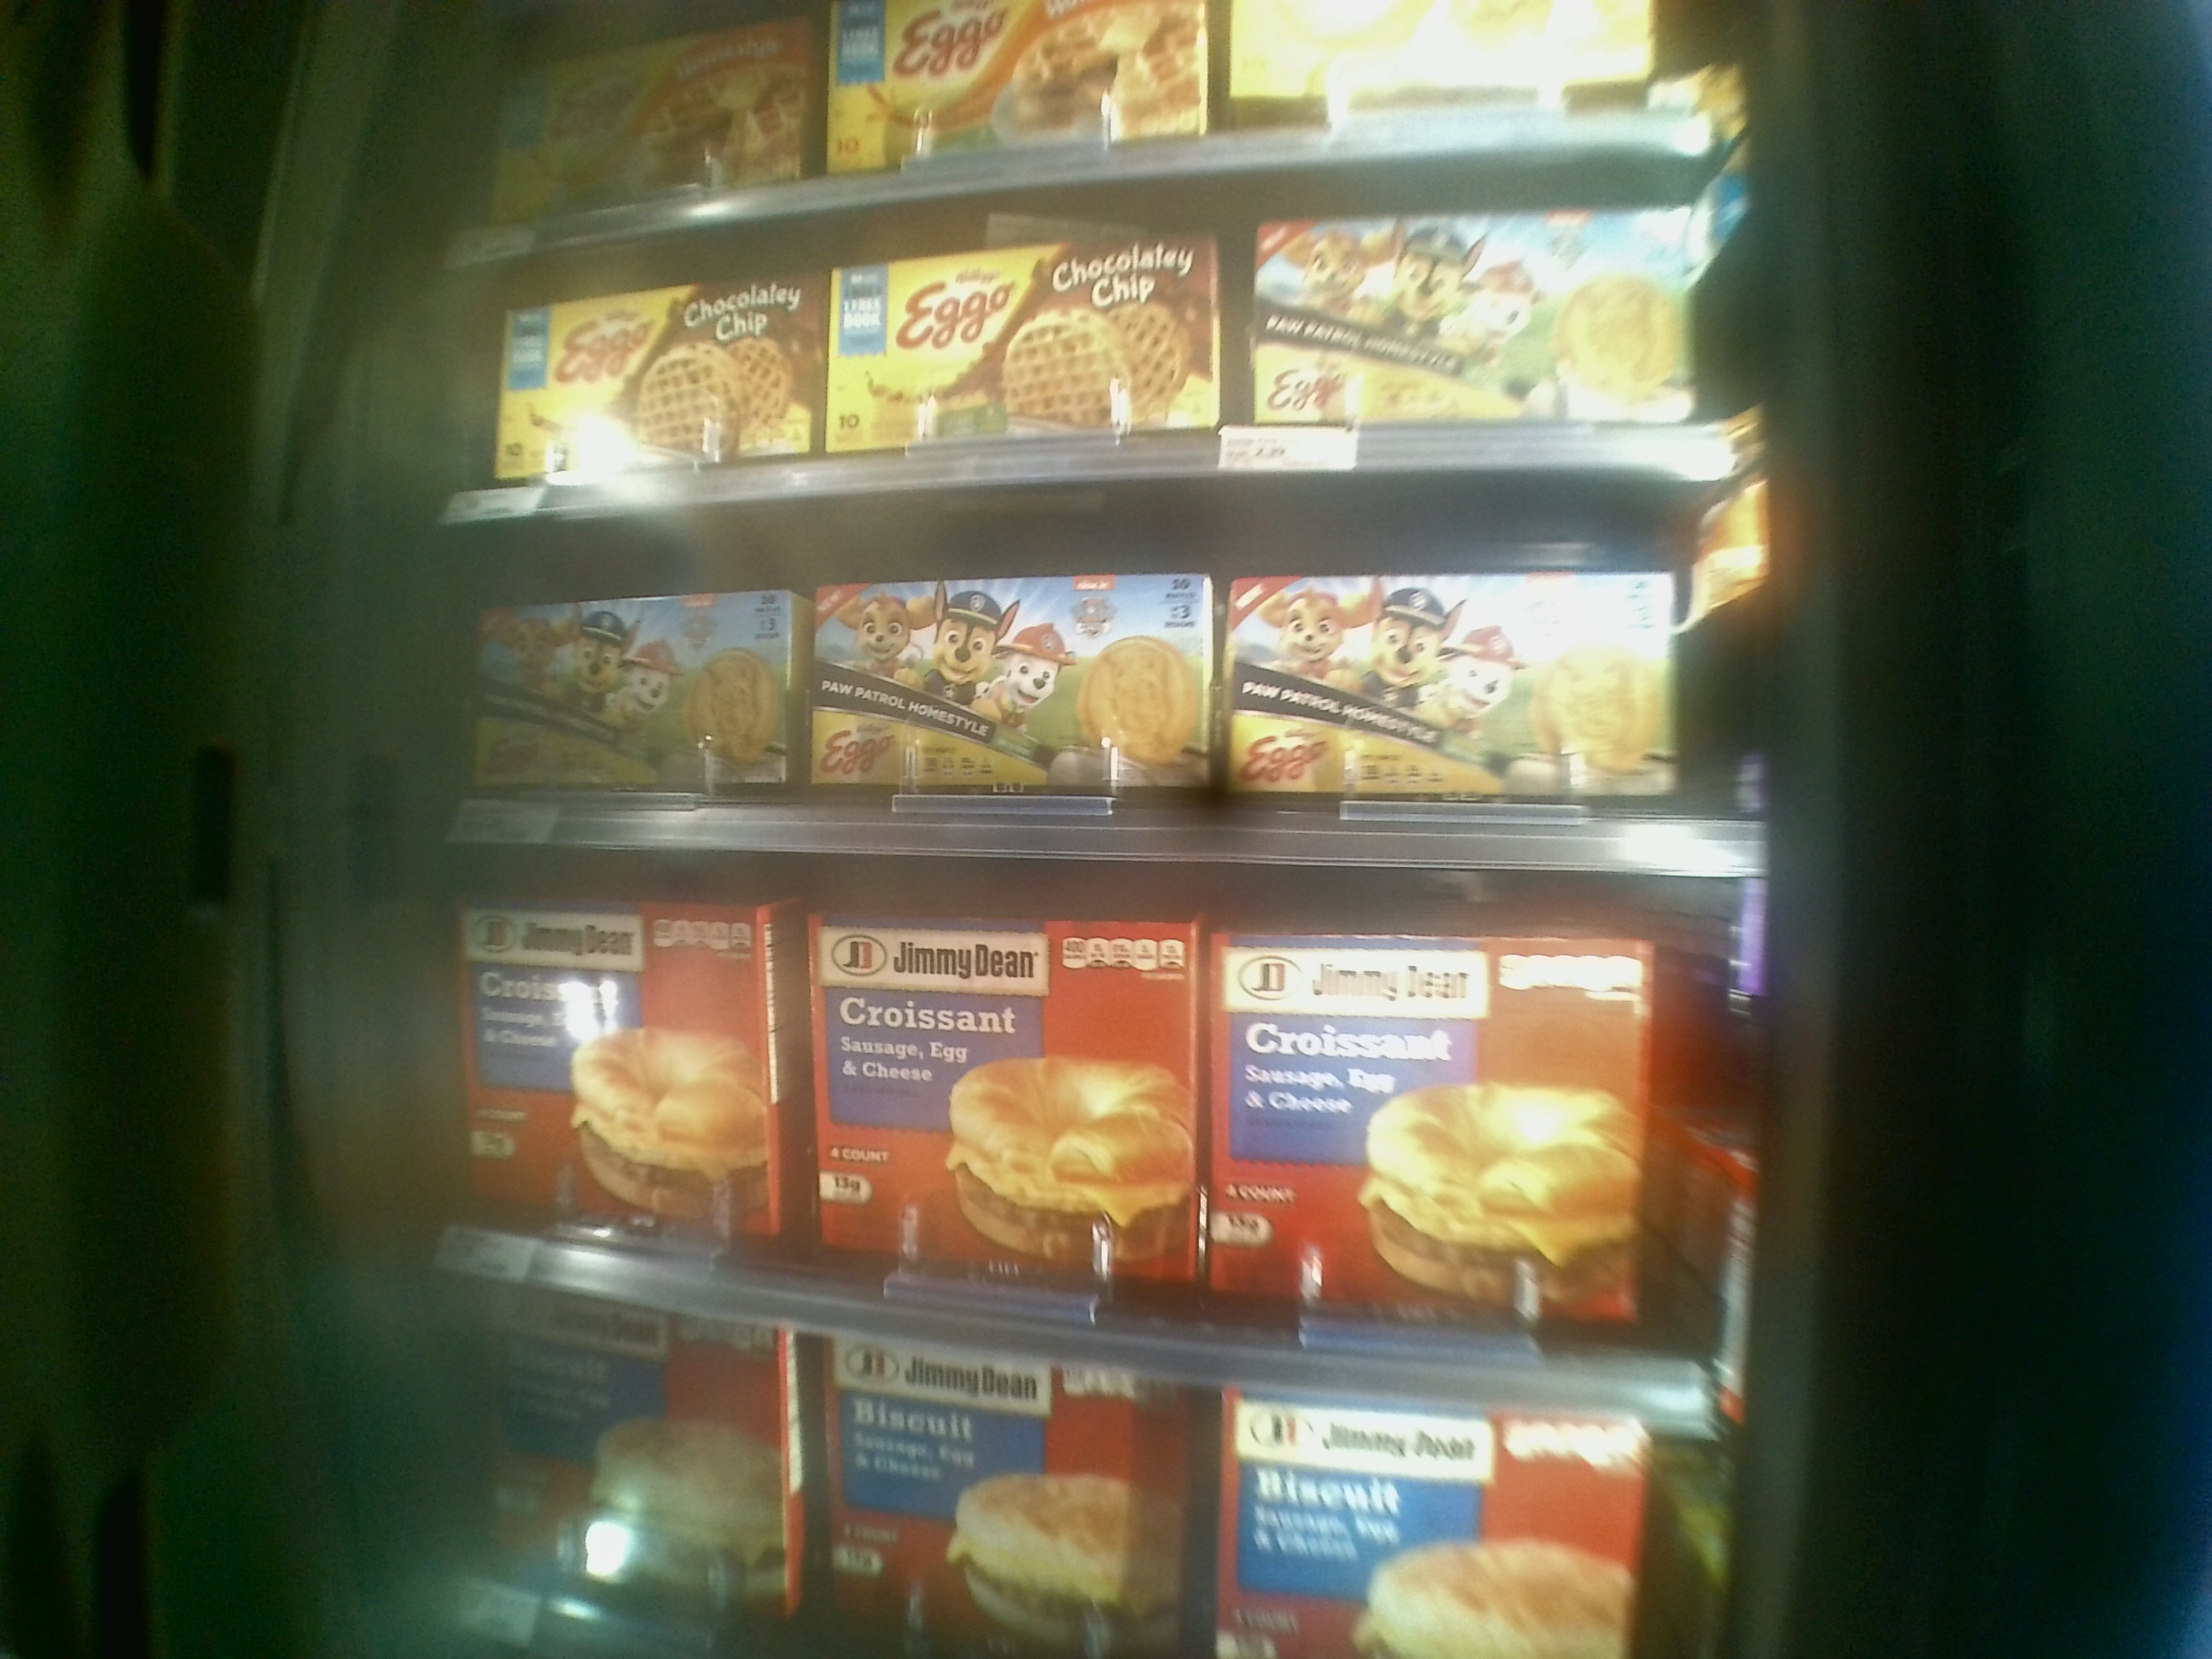shelf: (448, 843, 1742, 1455), (441, 493, 1759, 889), (439, 166, 1749, 484)
